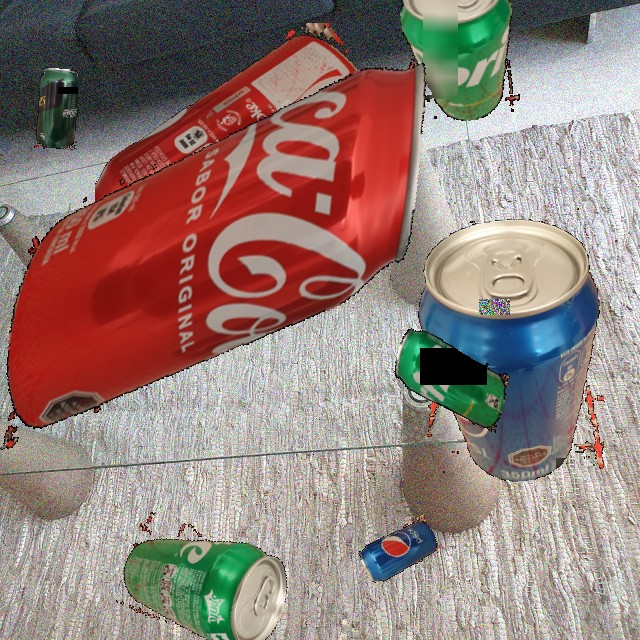coca cola: (0, 39, 493, 456), (95, 23, 394, 297)
pepsi: (415, 208, 604, 488), (358, 514, 438, 585)
schweppes: (34, 68, 78, 150)
sprite: (109, 508, 298, 640), (392, 0, 527, 134), (380, 321, 523, 435)
